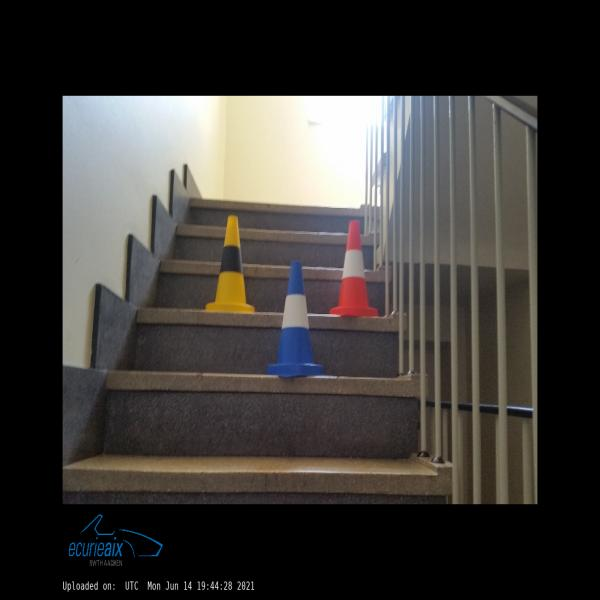blue_cone: (267, 262, 323, 376)
orange_cone: (330, 220, 378, 316)
yellow_cone: (206, 216, 255, 314)
